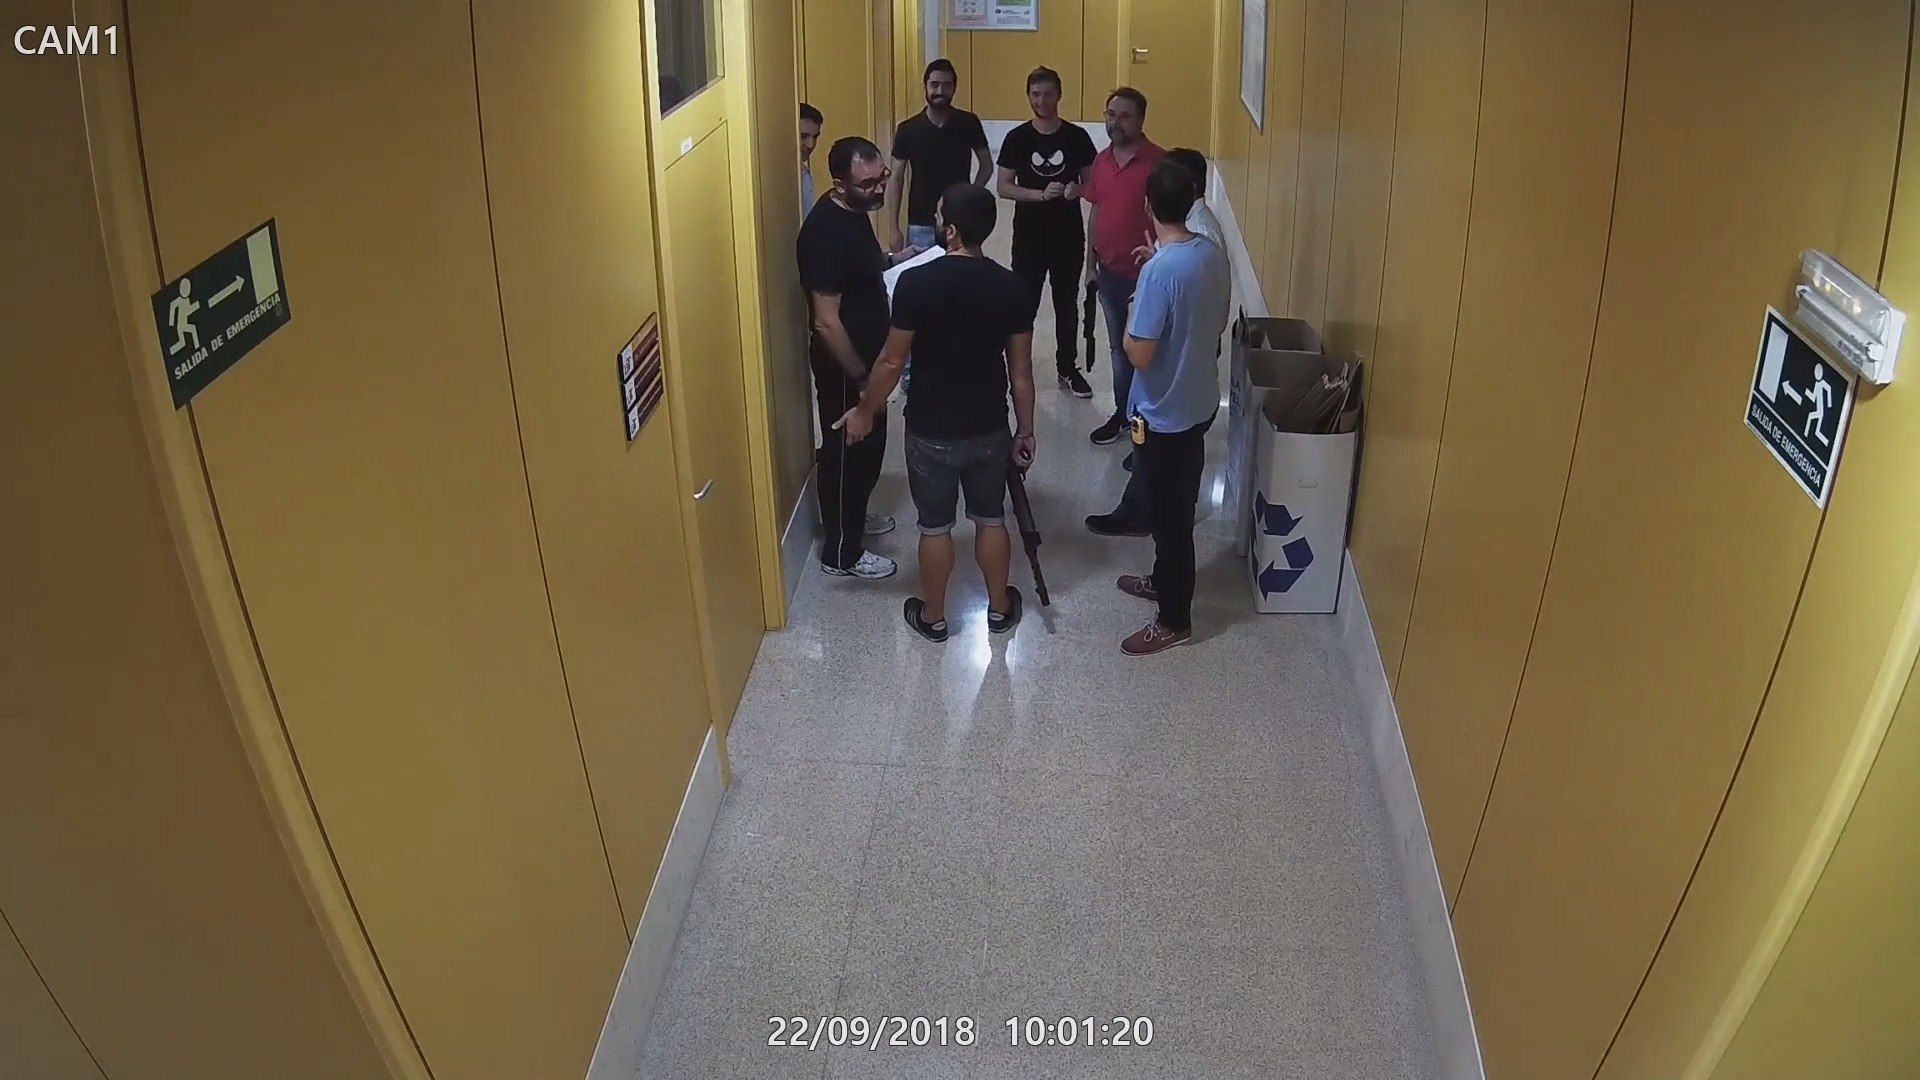Handgun: (1083, 237, 1109, 274)
Short_rifle: (1002, 444, 1055, 605), (1077, 274, 1104, 371)
